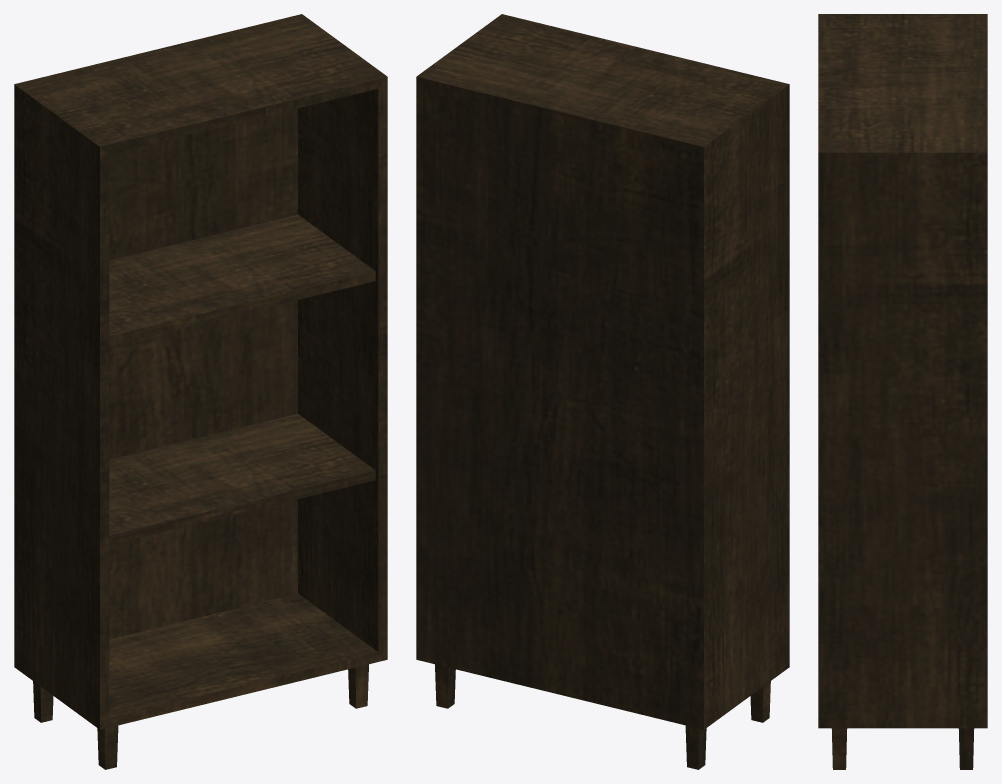
Rendered from shelf_mp_2_3.obj.
The picture shows the model from 3 angles, left to right: view 1: azimuth 30°, elevation 25°; view 2: azimuth 150°, elevation 25°; view 3: azimuth 270°, elevation 25°; orthographic projection.
Visible parts, largest first — view 1: shelf_mp_2_3; view 2: shelf_mp_2_3; view 3: shelf_mp_2_3.
Part boxes in pixels (x1,y1,x2,y2): shelf_mp_2_3: (14,14,387,769); shelf_mp_2_3: (416,14,789,769); shelf_mp_2_3: (818,14,987,769).
Size of the model in its own units: 0.62 by 1.3 by 0.32.
